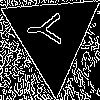Y: (27, 11, 70, 48)
